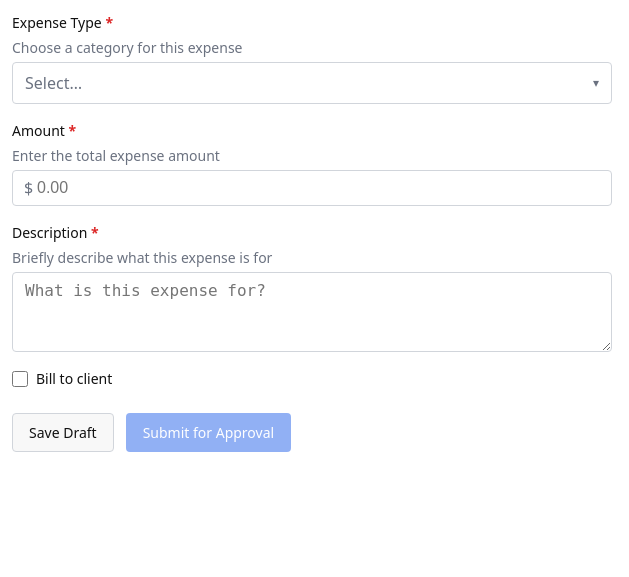
it: RequestForm › shows client field when billable is checked
This screenshot has width=629, height=577.
Click the checkbox labelled "Bill to client" at (20, 378), box [12, 370, 28, 386]
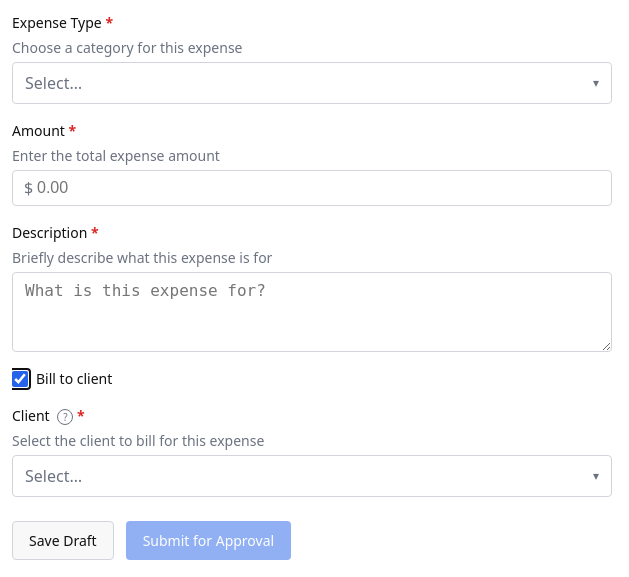
Check: the text "Client ? *" is shown, box [12, 406, 85, 425]
